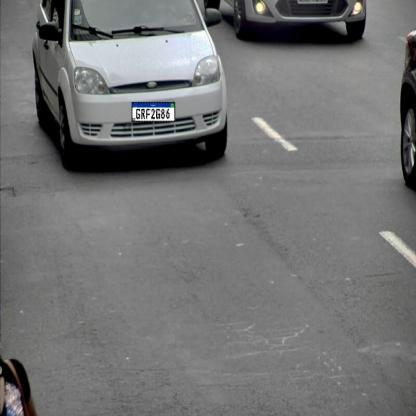PlacaM: (132, 102, 175, 122)
